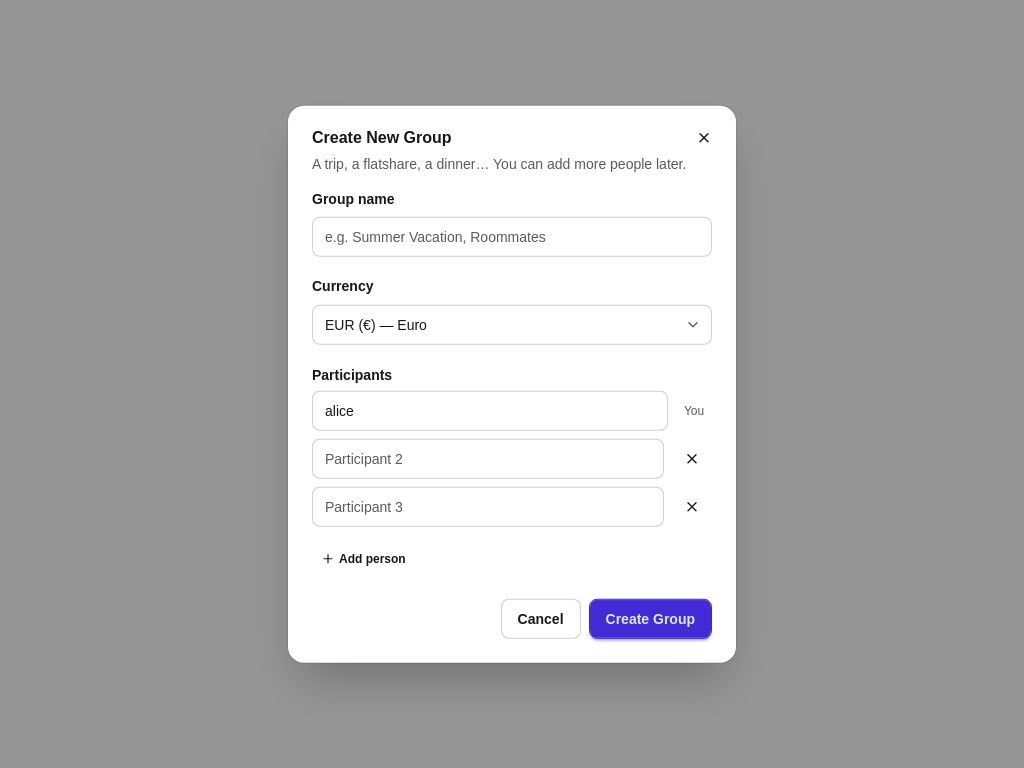
Test: CreateGroupModal › says why the group couldn't be made
The image size is (1024, 768).
In the field labelled "Group name": (512, 237) left=312, top=217, right=712, bottom=257, type "Trip"
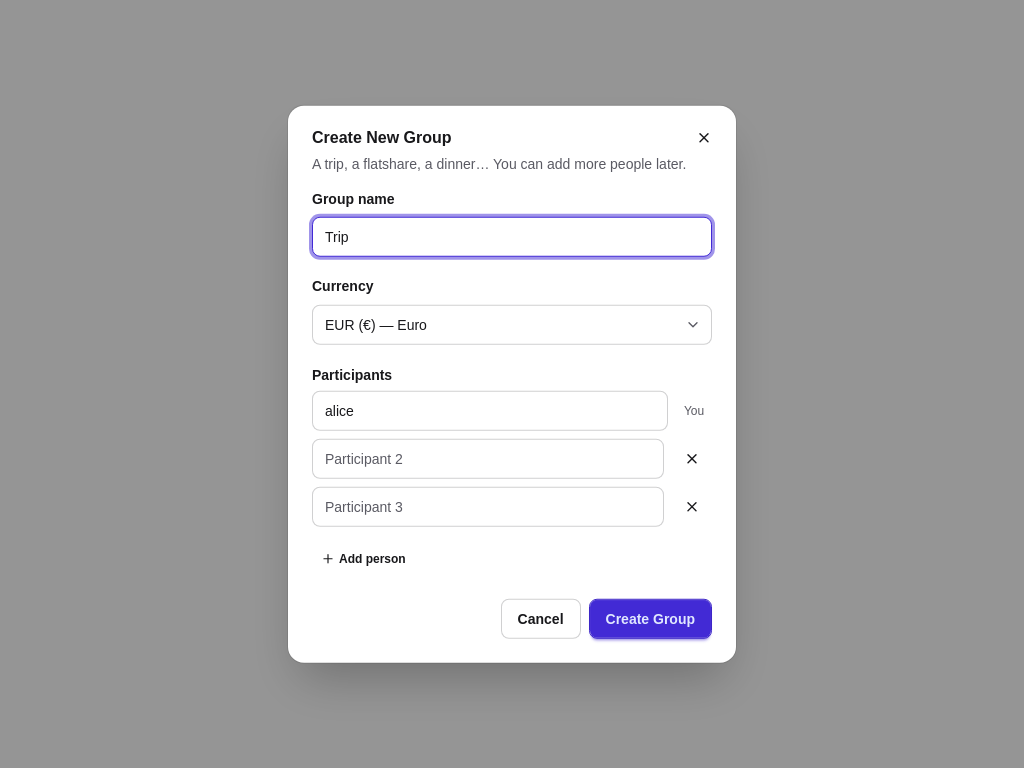
Submit the form, box left=312, top=190, right=712, bottom=638
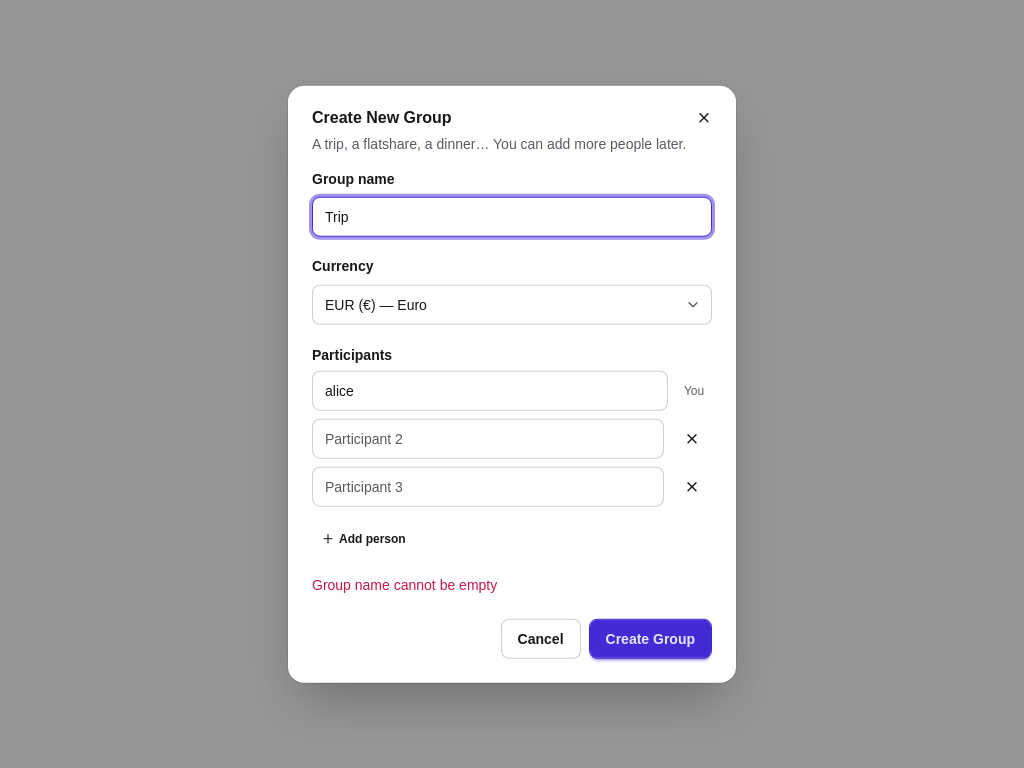
Expected: the dialog shows "Group name cannot be empty", left=312, top=576, right=497, bottom=592
